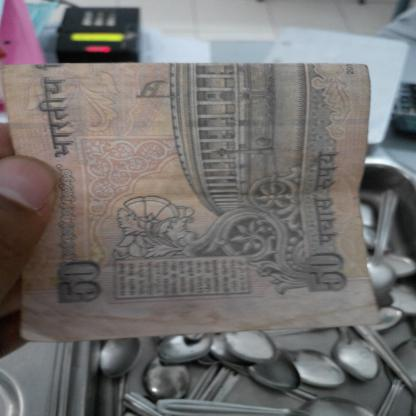Old50Back: (0, 62, 373, 343)
